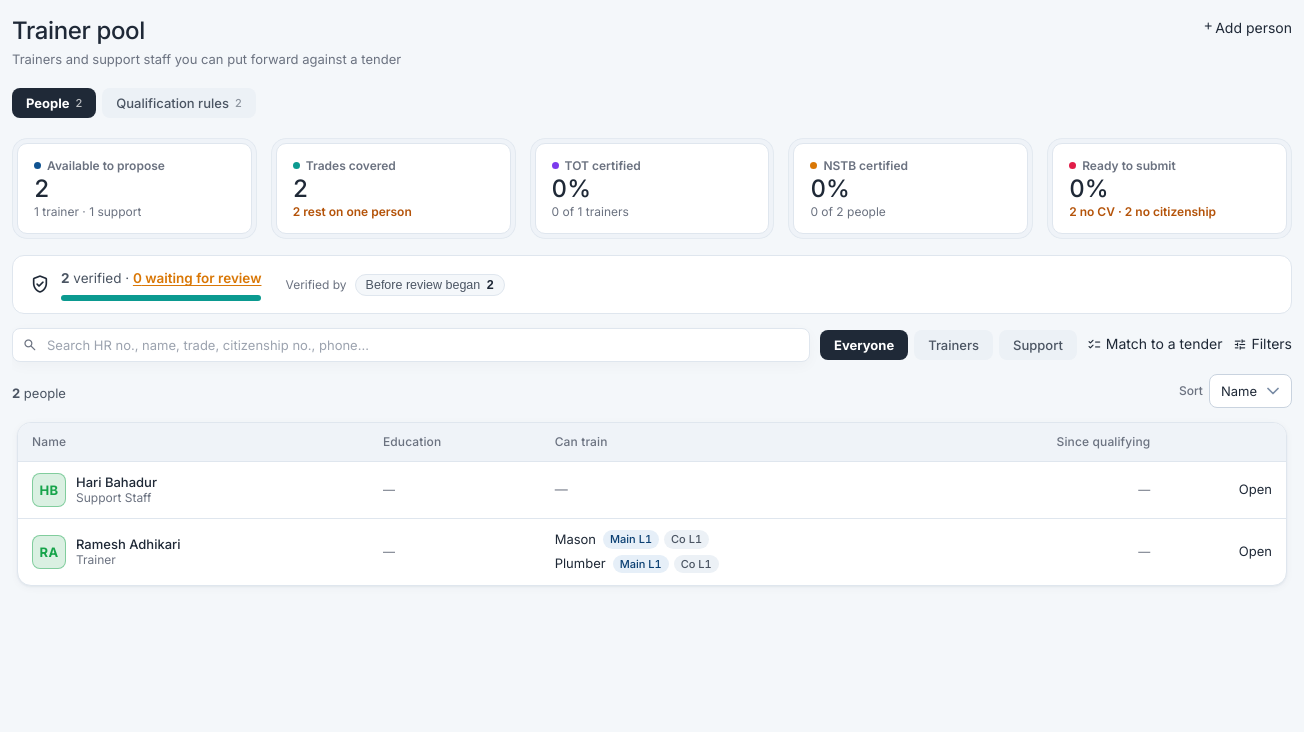
it: entering someone › opens as a page, not a dialog over the roster
The image size is (1304, 732).
Click the element showing "Add person". click: [1247, 27]
box: [1201,16,1292,38]
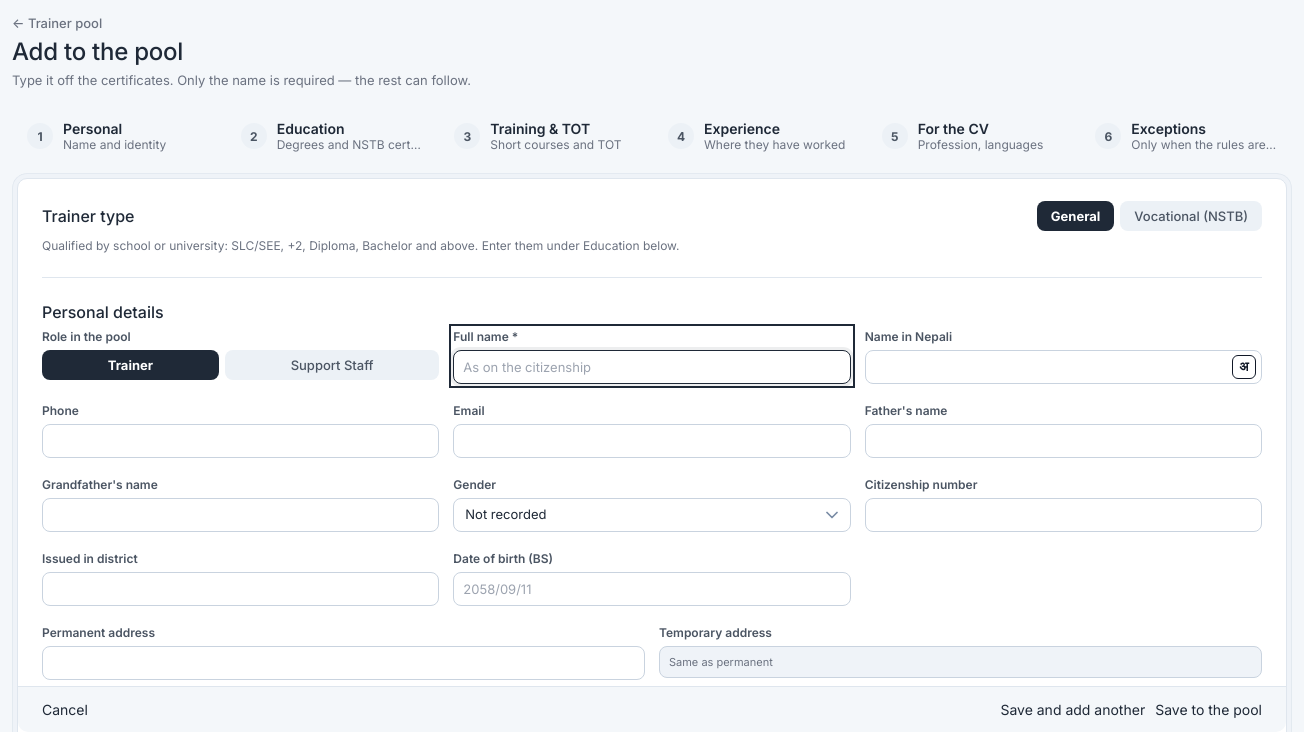
Check: the text "Add to the pool" is shown, box [12,37,183,66]
Check: the text "Ramesh Adhikari" is gone
